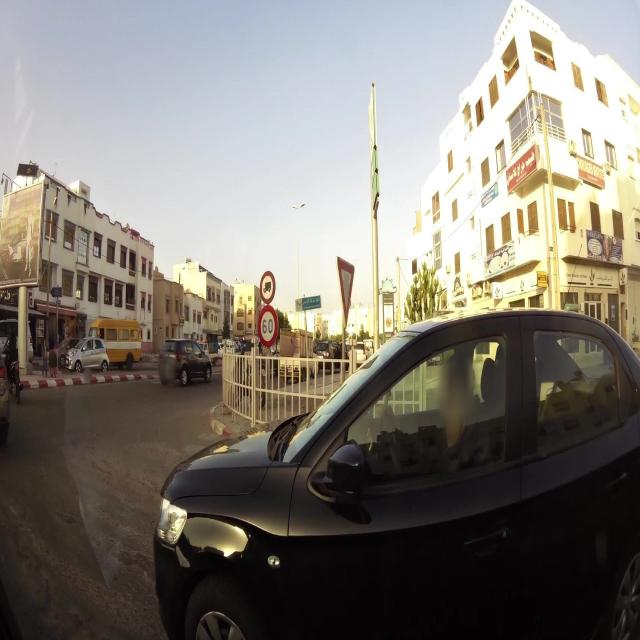car: (158, 289, 640, 640), (88, 316, 142, 368), (158, 338, 212, 386), (67, 336, 110, 373), (0, 341, 11, 447)
